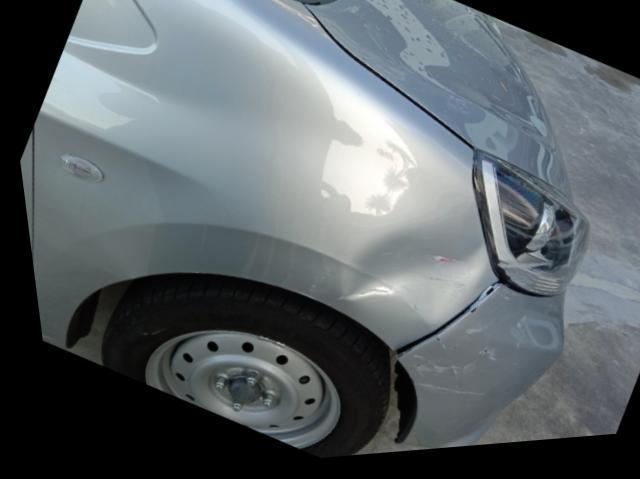dent: (329, 212, 478, 329)
scratch: (402, 297, 502, 405)
